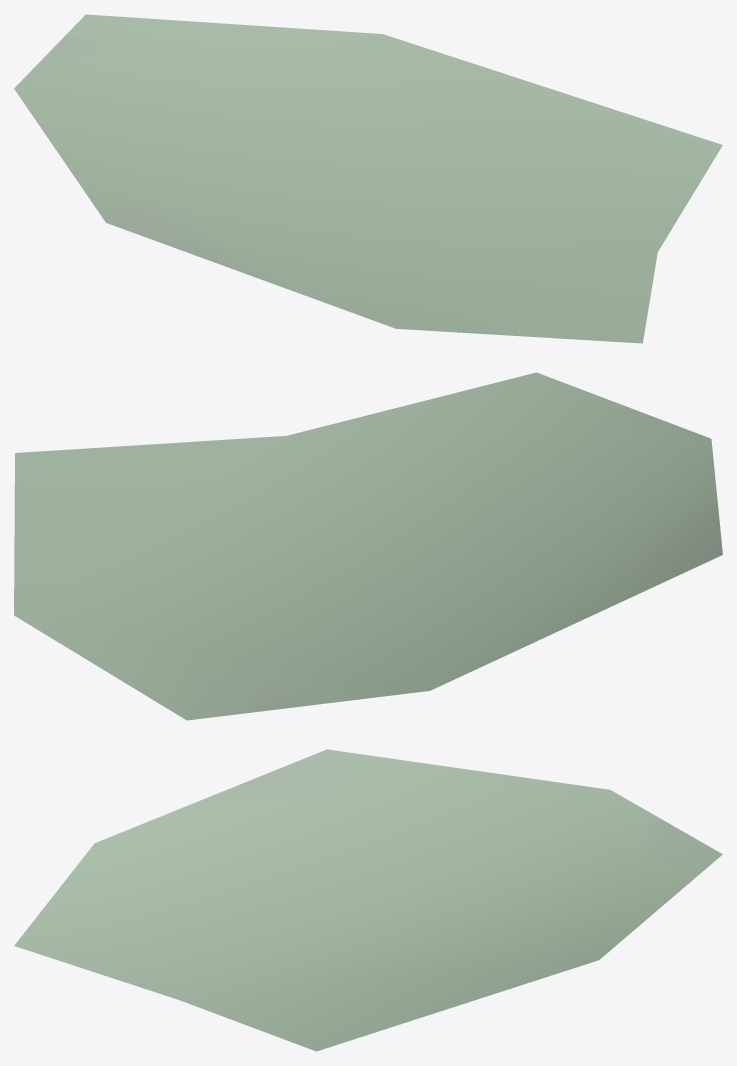
The model's file is TROLLHOLE02_HOLECAP107.fbx.
3 renders of one model, top to bottom at view 1: azimuth 30°, elevation 25°; view 2: azimuth 150°, elevation 25°; view 3: azimuth 270°, elevation 25°, orthographic. The views are drawn at different scales.
Visible parts, largest first — view 1: TROLLHOLE02_HOLECAP107; view 2: TROLLHOLE02_HOLECAP107; view 3: TROLLHOLE02_HOLECAP107.
Boxes of the visible parts, box(x1,y1,x2,y2) form: TROLLHOLE02_HOLECAP107: box(14, 14, 722, 343); TROLLHOLE02_HOLECAP107: box(14, 372, 722, 720); TROLLHOLE02_HOLECAP107: box(14, 749, 722, 1051).
Size of the model in its own units: 18084 by 2171 by 21942.
1 material, 1 textured.
